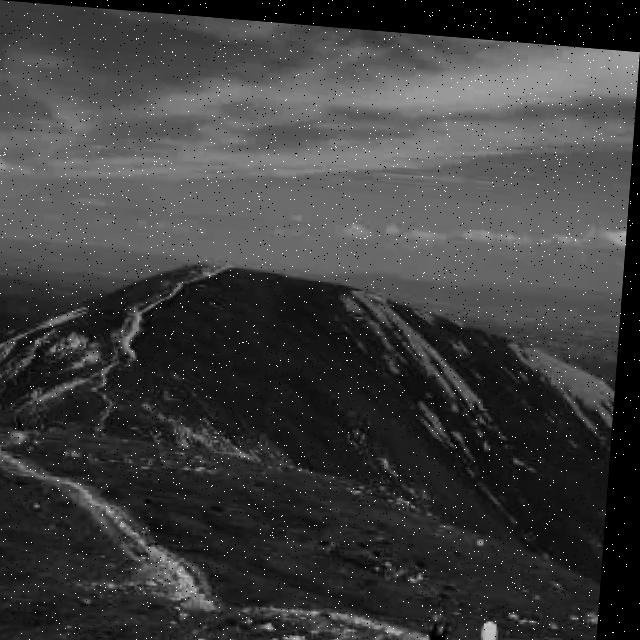Malolaczniak: (30, 139, 406, 385)
